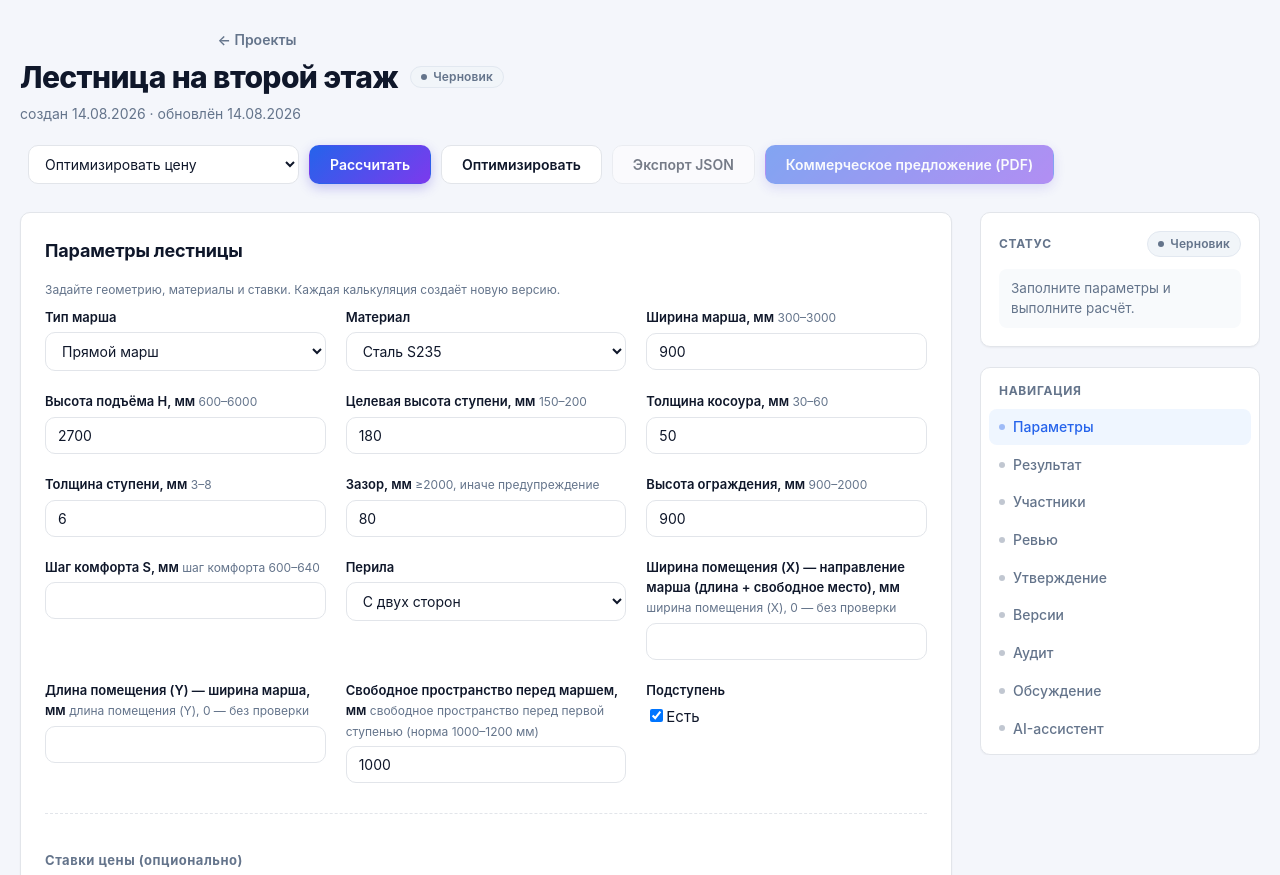
Test case: ProjectDetail › позволяет выбрать материал и передаёт его в расчёт
expect the heading "Лестница на второй этаж Черновик" is shown: met, box [20, 59, 504, 95]
Select "Дуб" in the dropdown labelled "Материал" at (486,352), box [346, 332, 626, 371]
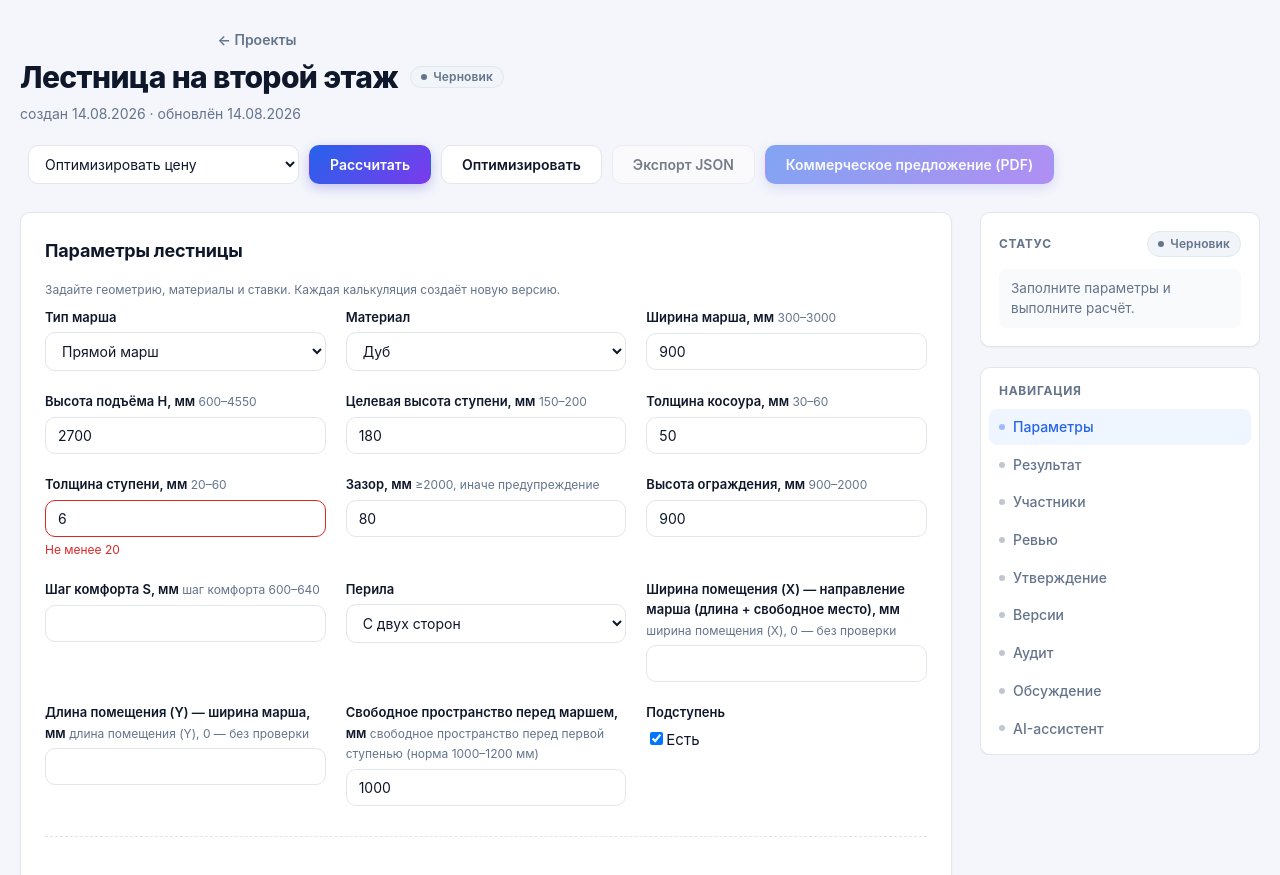
Click the button "Рассчитать" at (370,164), box [309, 145, 431, 184]
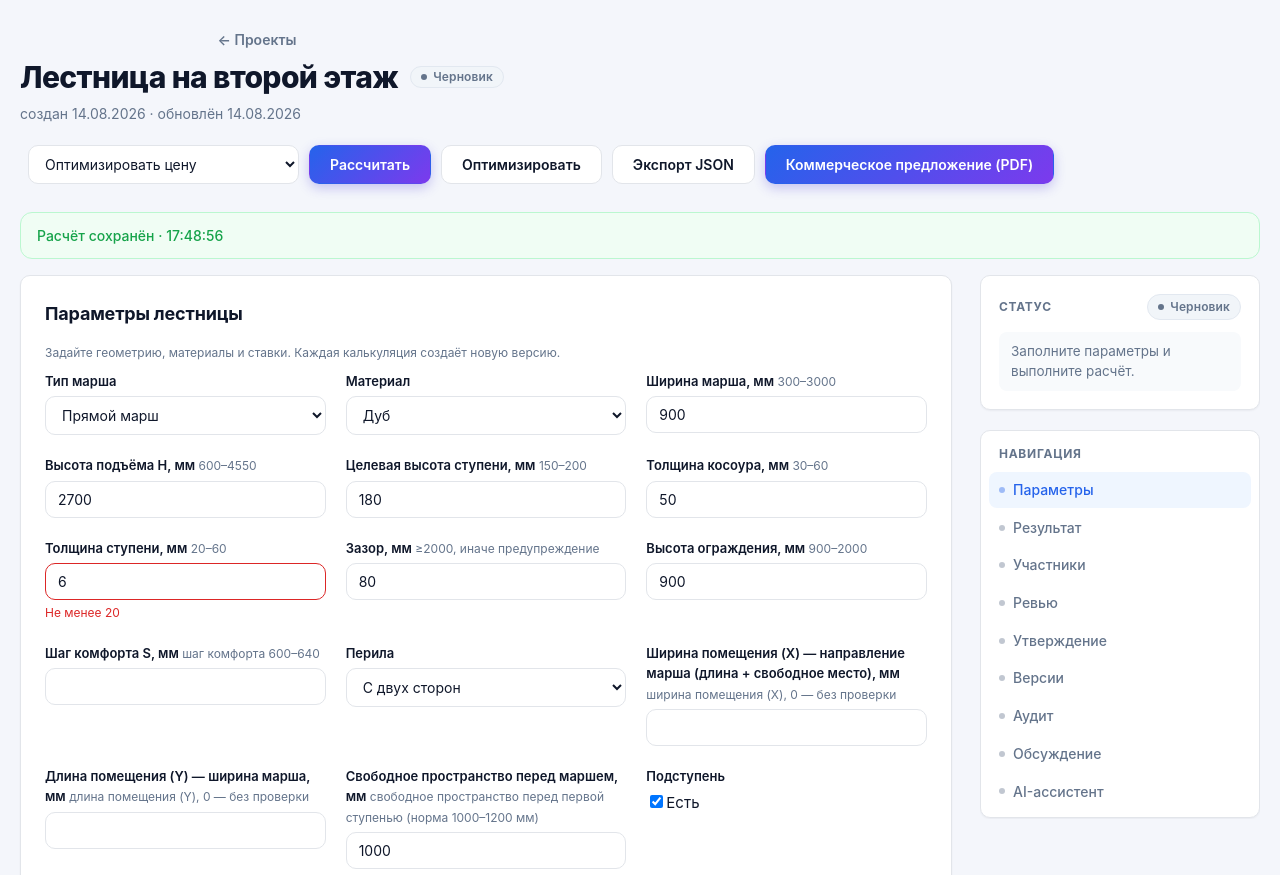
expect the text "Расчёт сохранён · 17:48:56" is shown: met, box [20, 212, 1260, 259]
